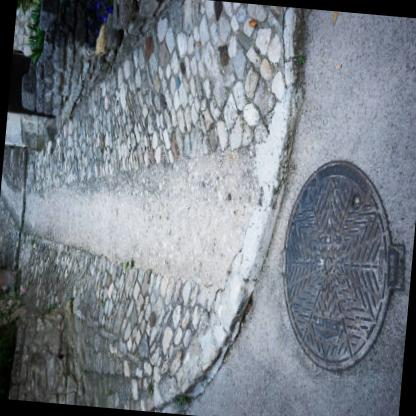manholes: (246, 115, 416, 416)
